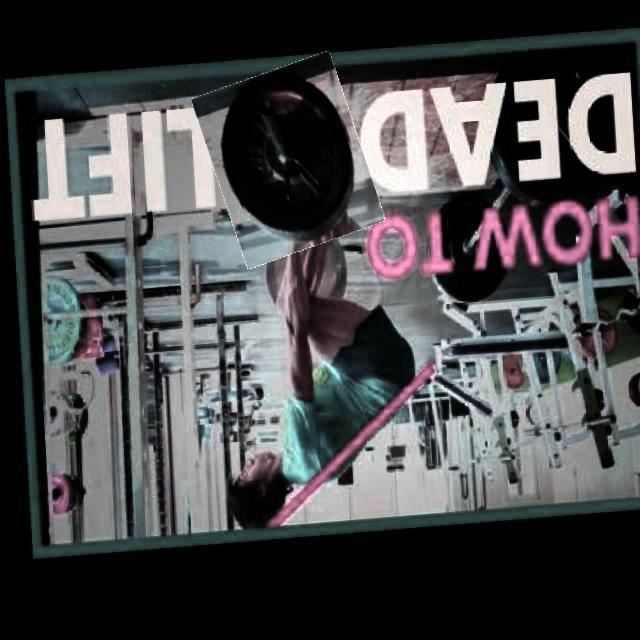barbell: (200, 63, 374, 268)
